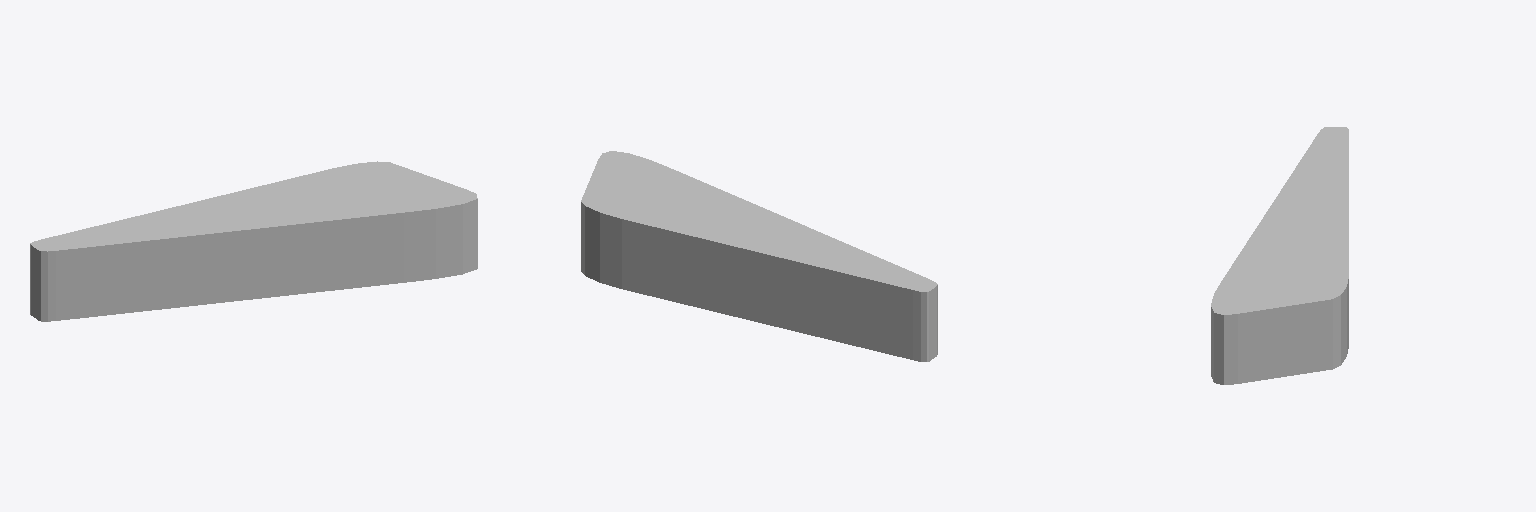
Rendered from bumperR.obj.
3 views of the same model, side by side, from view 1: azimuth 30°, elevation 25°; view 2: azimuth 150°, elevation 25°; view 3: azimuth 270°, elevation 25° (orthographic).
Visible parts, largest first — view 1: Cube.007; view 2: Cube.007; view 3: Cube.007.
Part boxes in pixels (x1,y1,x2,y2): Cube.007: (30,161,477,321); Cube.007: (581,151,937,361); Cube.007: (1211,127,1348,384).
Bounding box in the file's own units: 1.15 × 0.2 × 0.3577.